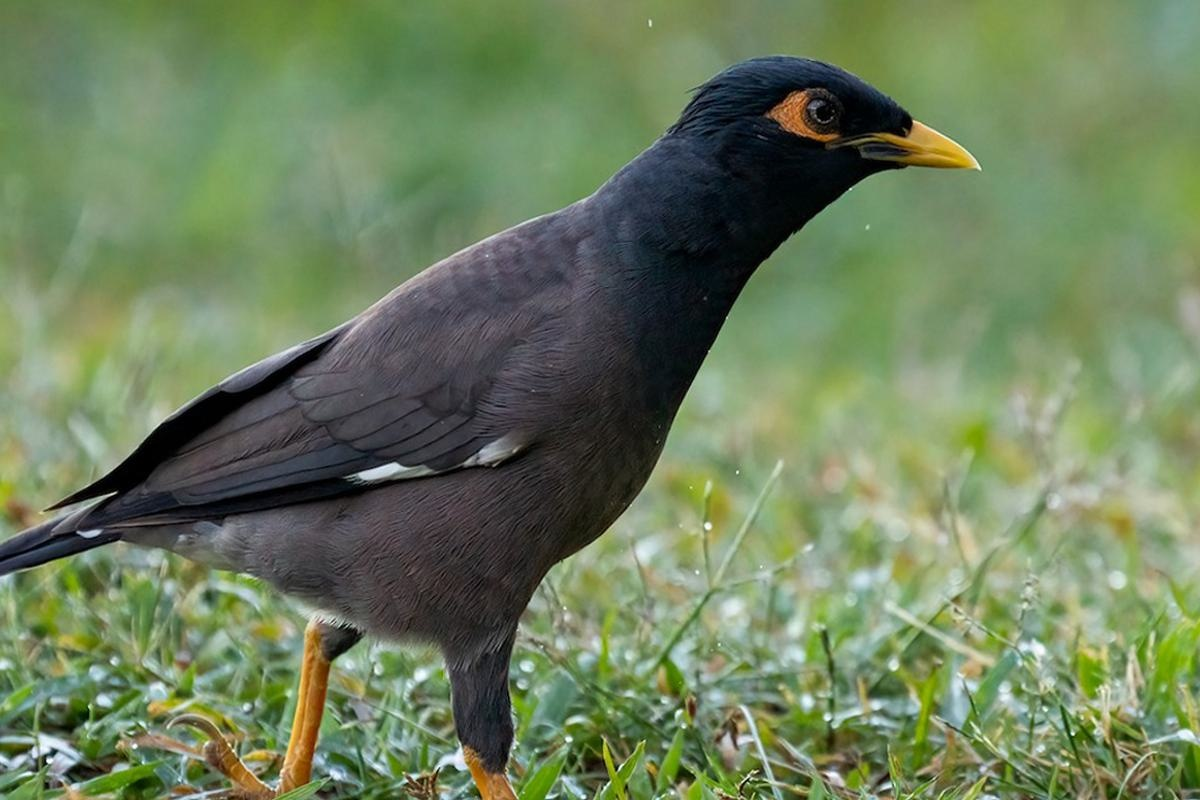myna: (119, 23, 1017, 710)
